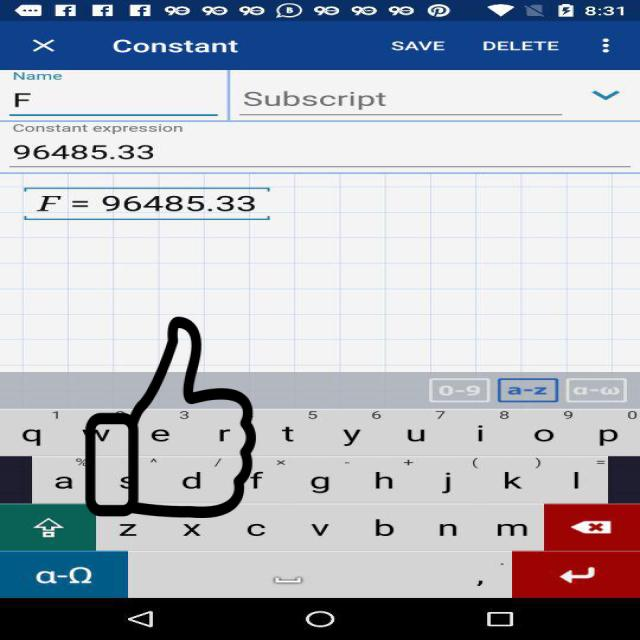privacy zuckering: (83, 317, 258, 518)
